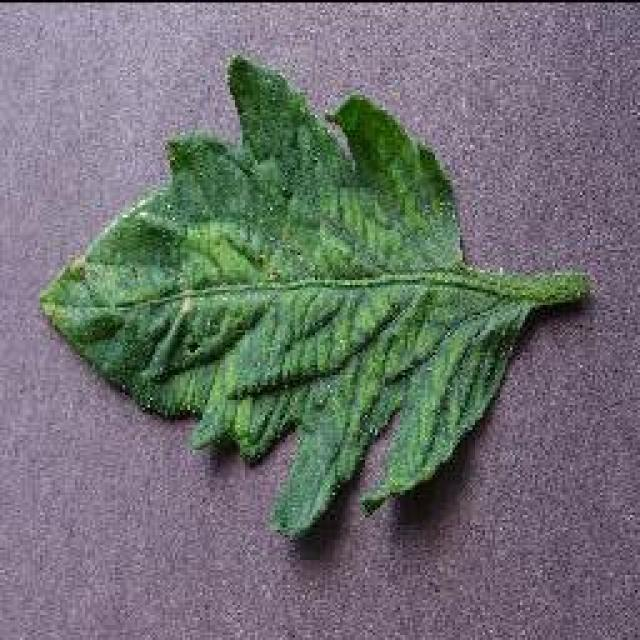Tomato___Tomato_mosaic_virus: (40, 58, 588, 535)
